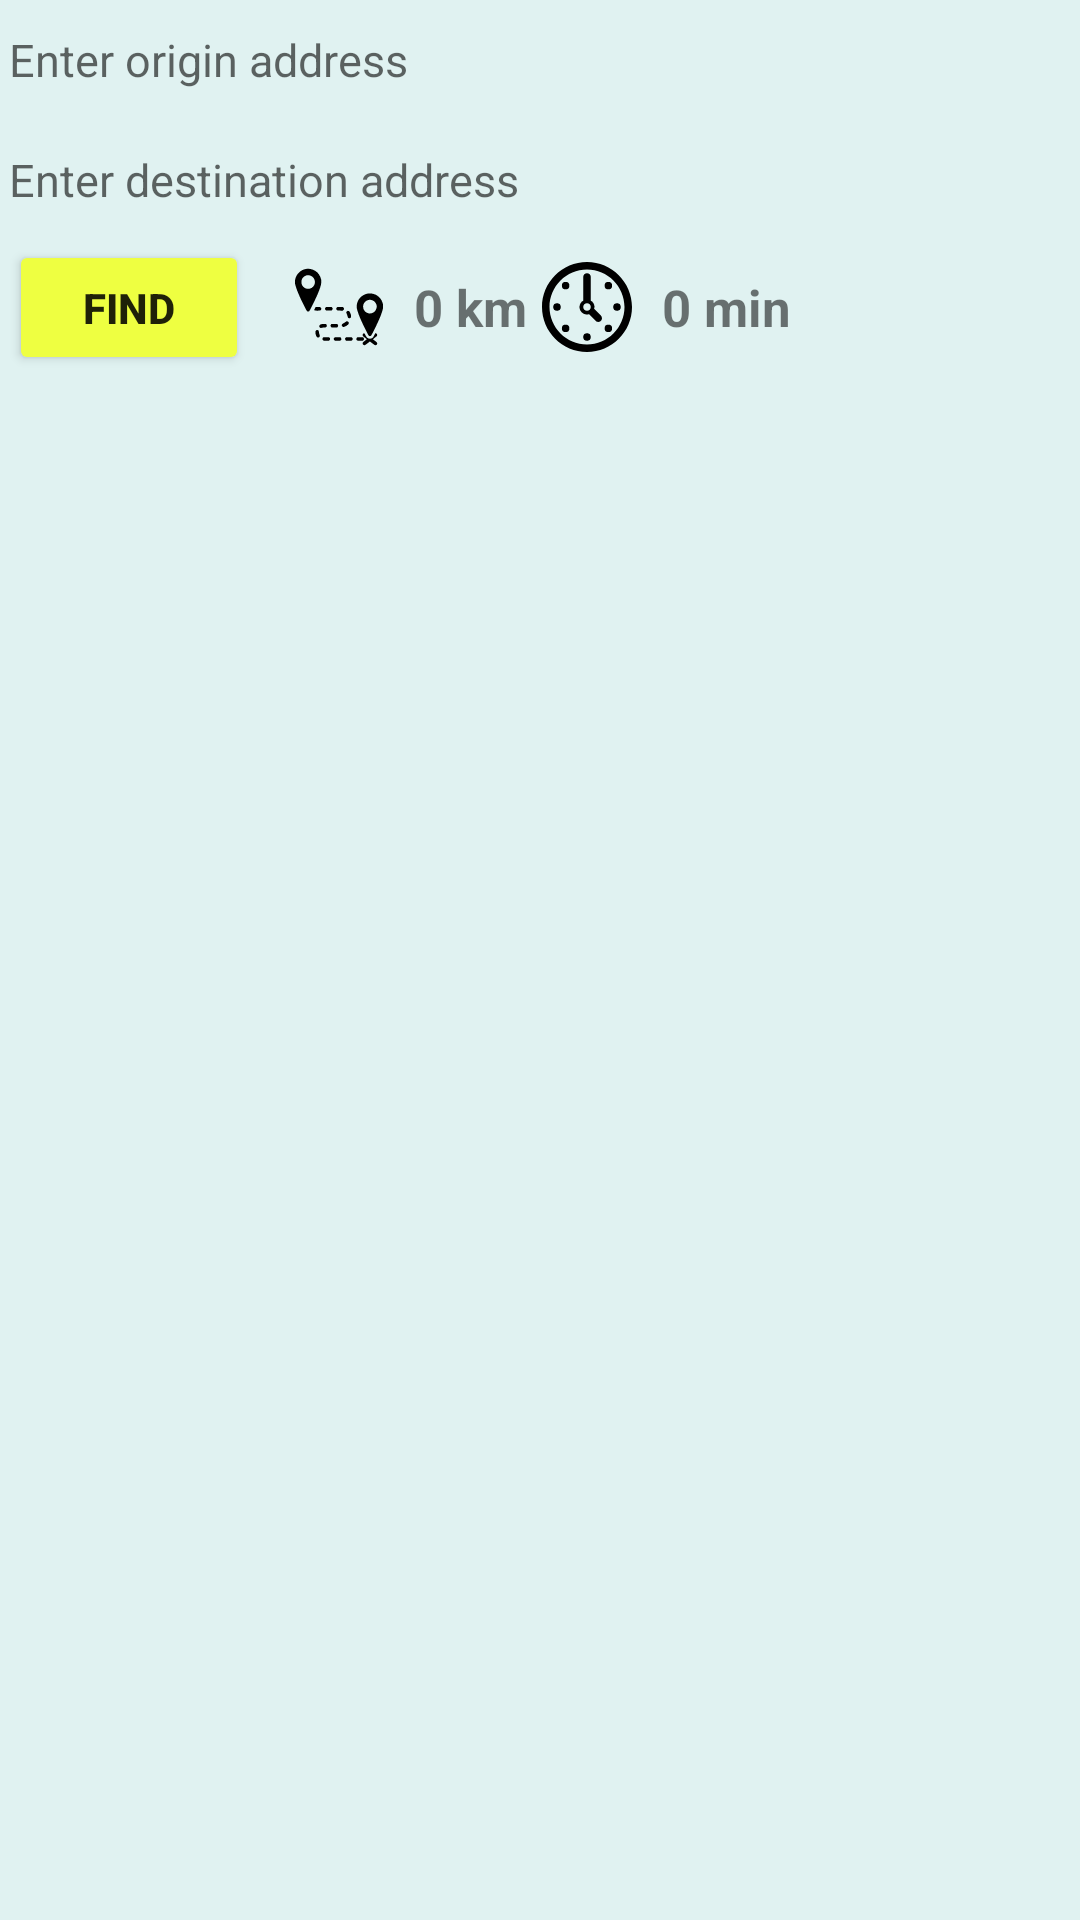

Point at icon controls on the screen. Image size 1080 x 1920, points as (x,y).
clock: (587,307)
radiusdirection: (339,307)
